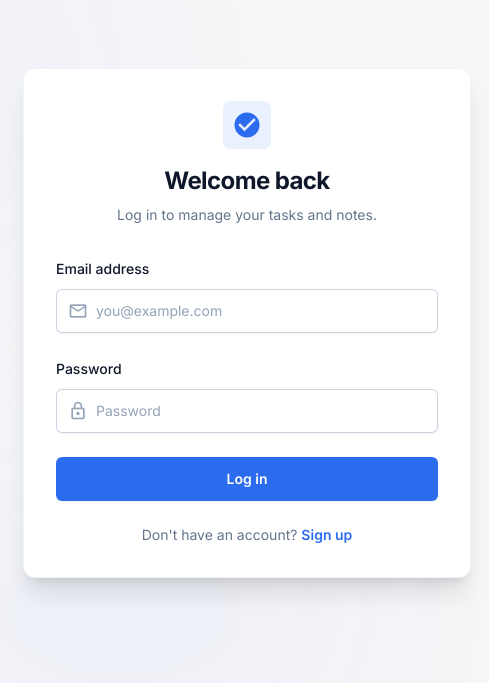
Test: App Component › switches to SignUp page
Click the button "Sign up" at [327, 535], box left=301, top=525, right=352, bottom=545
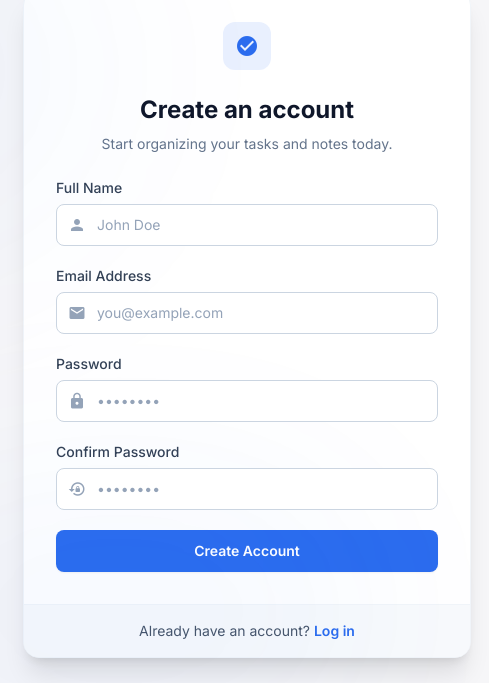
Now the heading "Create an account" is shown, box left=140, top=94, right=354, bottom=124
